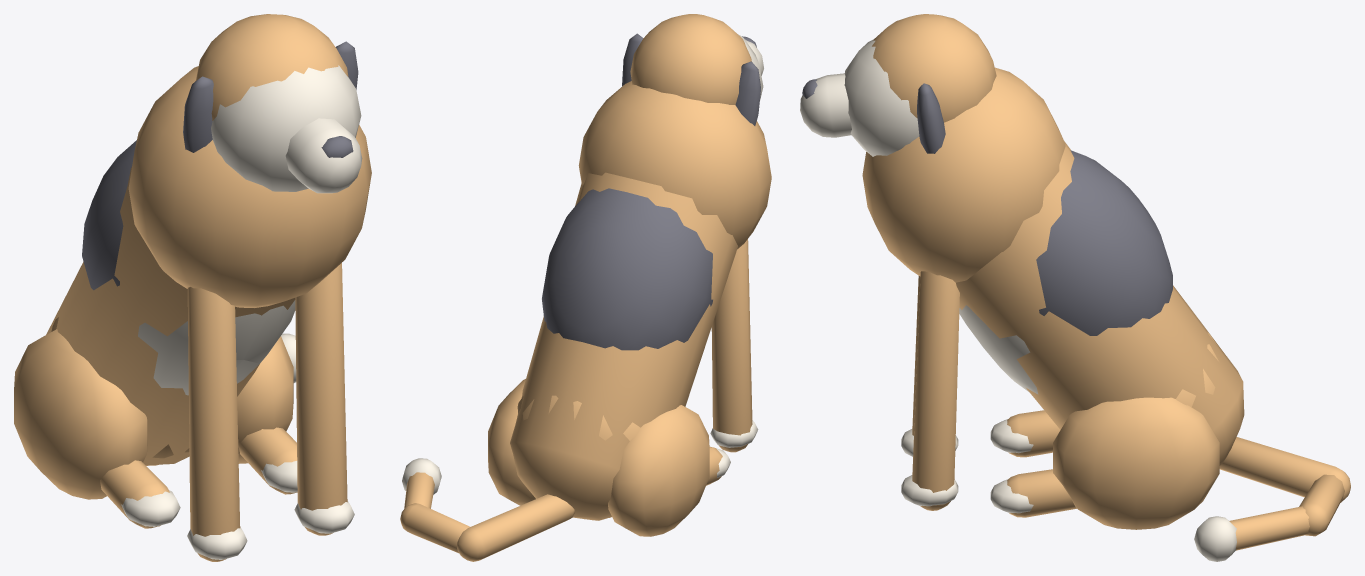
Rendered from companion-animals-and-pet-home-dog-hound-sit-c9363e86__20578.glb.
The picture shows the model from 3 angles, left to right: view 1: azimuth 30°, elevation 25°; view 2: azimuth 150°, elevation 25°; view 3: azimuth 270°, elevation 25°; orthographic projection. The views are drawn at different scales.
Parts seen in each view (by area): view 1: dog-hound-sit; view 2: dog-hound-sit; view 3: dog-hound-sit.
Boxes of the visible parts, x1,y1,x2,y2 form: dog-hound-sit: [14, 14, 371, 561]; dog-hound-sit: [400, 14, 771, 561]; dog-hound-sit: [800, 14, 1350, 561].
Bounding box in the file's own units: 0.415 × 0.6628 × 0.6955.
